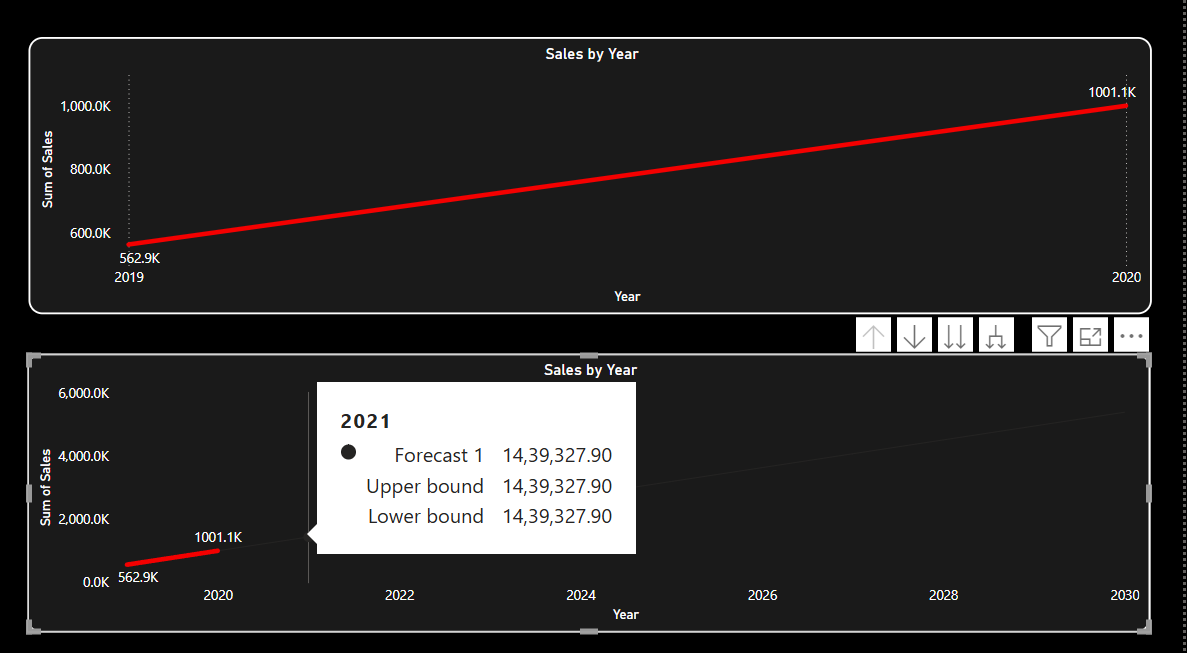

The page's visual inventory and layout, read from the dashboard file:
{"tool":"powerbi","page":{"name":"Forcasting","canvas":[1280,720],"ordinal":1},"visuals":[{"type":"lineChart","title":"Sales by Year","fields":{"Category":["Sheet1.Order Date.Variation.Date Hierarchy.Year","Sheet1.Order Date.Variation.Date Hierarchy.Quarter","Sheet1.Order Date.Variation.Date Hierarchy.Month","Sheet1.Order Date.Variation.Date Hierarchy.Day"],"Y":["Sum(Sheet1.Sales)"]},"box":[34,42.1,1212.8,299.6],"z":0},{"type":"lineChart","title":"Sales by Year","fields":{"Category":["Sheet1.Order Date.Variation.Date Hierarchy.Year","Sheet1.Order Date.Variation.Date Hierarchy.Quarter","Sheet1.Order Date.Variation.Date Hierarchy.Month","Sheet1.Order Date.Variation.Date Hierarchy.Day"],"Y":["Sum(Sheet1.Sales)"]},"box":[32.4,383.8,1212.8,301.2],"z":1000}]}

Visuals, with their boxes in screenshot pixels (x1, y1, x2, y2):
"Sales by Year" lineChart: bbox(25, 33, 1149, 310)
"Sales by Year" lineChart: bbox(24, 349, 1147, 628)
